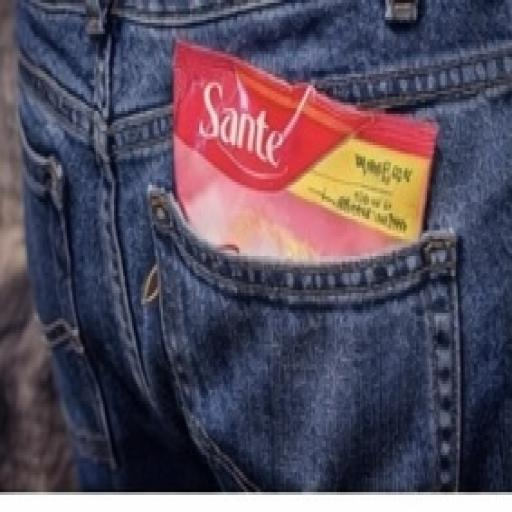granola: (157, 25, 440, 354)
